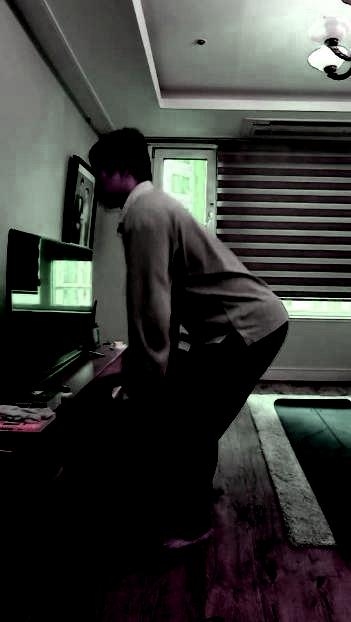Barbell: (105, 470, 142, 501)
